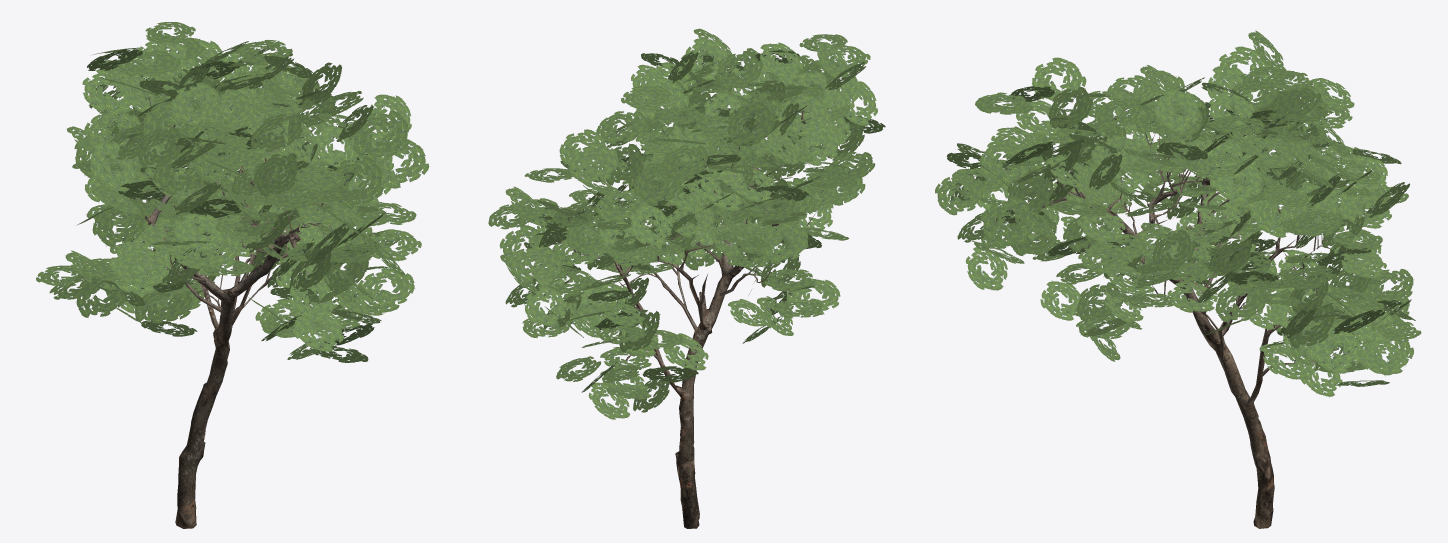
Rendered from tree-small-02.glb.
3 renders of one model, left to right at view 1: azimuth 30°, elevation 25°; view 2: azimuth 150°, elevation 25°; view 3: azimuth 270°, elevation 25°, orthographic. The views are drawn at different scales.
Parts seen in each view (by area): view 1: tree_small_02_LOD0; view 2: tree_small_02_LOD0; view 3: tree_small_02_LOD0.
Boxes of the visible parts, x1,y1,x2,y2 form: tree_small_02_LOD0: (36, 22, 429, 528); tree_small_02_LOD0: (488, 28, 885, 528); tree_small_02_LOD0: (935, 30, 1421, 528).
Size of the model in its own units: 3.62 by 4.76 by 4.72.
Materials: 3 (3 with a texture image).
